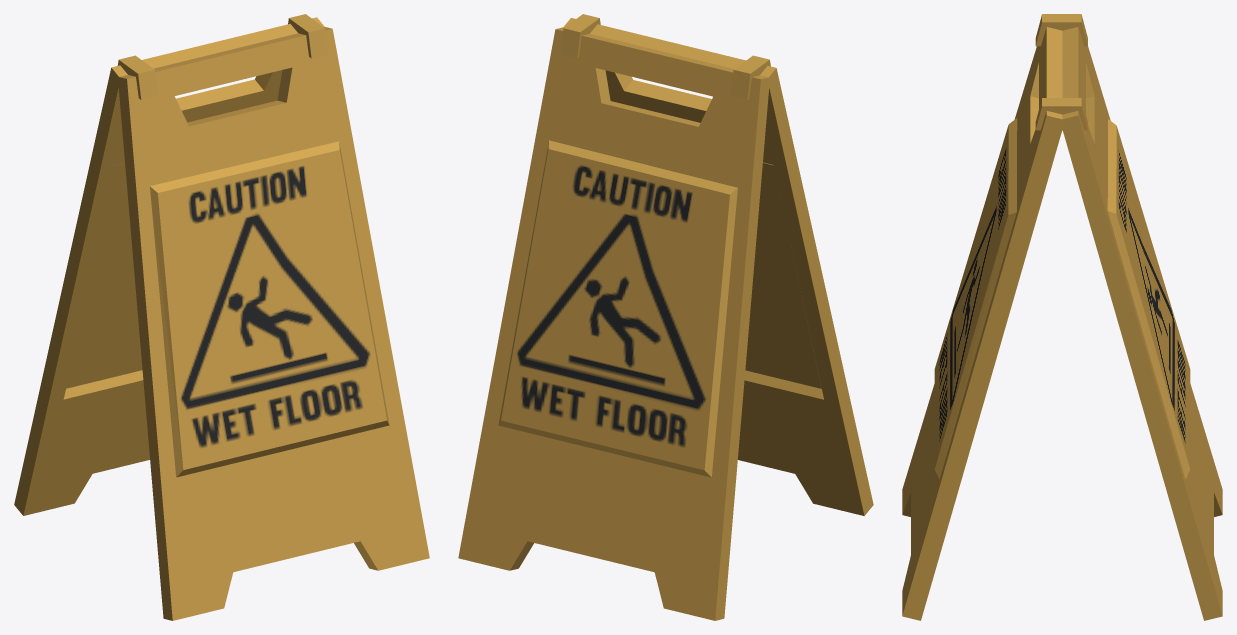
Rendered from WetFloor.obj.
3 renders of one model, left to right at view 1: azimuth 30°, elevation 25°; view 2: azimuth 150°, elevation 25°; view 3: azimuth 270°, elevation 25°, orthographic.
Visible parts, largest first — view 1: WetFloor; view 2: WetFloor; view 3: WetFloor.
Part boxes in pixels (x1,y1,x2,y2): WetFloor: [14, 14, 429, 620]; WetFloor: [458, 14, 873, 620]; WetFloor: [902, 14, 1222, 620].
Bounding box in the file's own units: 0.4098 × 0.75 × 0.438.
1 material, 1 textured.
